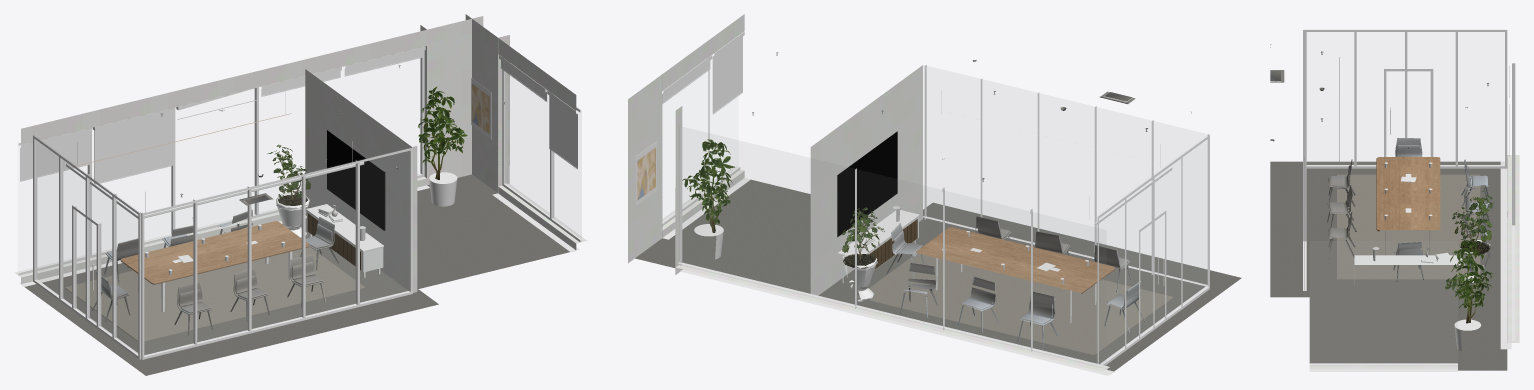
File: z-open_n-lite.full.beaa8afd.glb
3 views of the same model, side by side, from view 1: azimuth 30°, elevation 25°; view 2: azimuth 150°, elevation 25°; view 3: azimuth 270°, elevation 25° (orthographic). The views are drawn at different scales.
Visible parts, largest first — view 1: open_n_carpet, open_n_plaster, open_n_satin, open_n_glass, open_n_fx, open_n_oak, open_n_emit, open_n_veg_atlas, open_n_metal_lit, open_n_art, open_n_proxy_cab; view 2: open_n_carpet, open_n_plaster, open_n_glass, open_n_satin, open_n_fx, open_n_oak, open_n_emit, open_n_veg_atlas, open_n_metal_lit, open_n_art, open_n_proxy_cab; view 3: open_n_carpet, open_n_satin, open_n_oak, open_n_fx, open_n_veg_atlas, open_n_plaster, open_n_metal_lit.
Part boxes in pixels (x1,y1,x2,y2): open_n_carpet: [22, 174, 575, 375]; open_n_plaster: [15, 14, 586, 292]; open_n_satin: [17, 46, 582, 359]; open_n_glass: [37, 168, 304, 267]; open_n_fx: [92, 65, 505, 335]; open_n_oak: [120, 221, 309, 284]; open_n_emit: [71, 113, 385, 230]; open_n_veg_atlas: [267, 86, 467, 205]; open_n_metal_lit: [24, 78, 570, 311]; open_n_art: [471, 83, 489, 133]; open_n_proxy_cab: [307, 213, 360, 269]; open_n_carpet: [635, 179, 1241, 373]; open_n_plaster: [628, 14, 1109, 371]; open_n_glass: [682, 127, 1207, 364]; open_n_satin: [662, 31, 1209, 375]; open_n_fx: [752, 52, 1191, 347]; open_n_oak: [916, 227, 1114, 293]; open_n_emit: [837, 131, 1095, 237]; open_n_veg_atlas: [682, 139, 884, 268]; open_n_metal_lit: [635, 141, 1164, 371]; open_n_art: [637, 147, 655, 200]; open_n_proxy_cab: [861, 219, 917, 269]; open_n_carpet: [1270, 161, 1507, 370]; open_n_satin: [1303, 30, 1515, 371]; open_n_oak: [1376, 157, 1440, 231]; open_n_fx: [1270, 44, 1490, 281]; open_n_veg_atlas: [1445, 190, 1494, 323]; open_n_plaster: [1304, 155, 1519, 368]; open_n_metal_lit: [1385, 107, 1501, 348].
Bounding box in the file's own units: 10.25 × 3.31 × 5.05.
13 materials, 7 textured.
